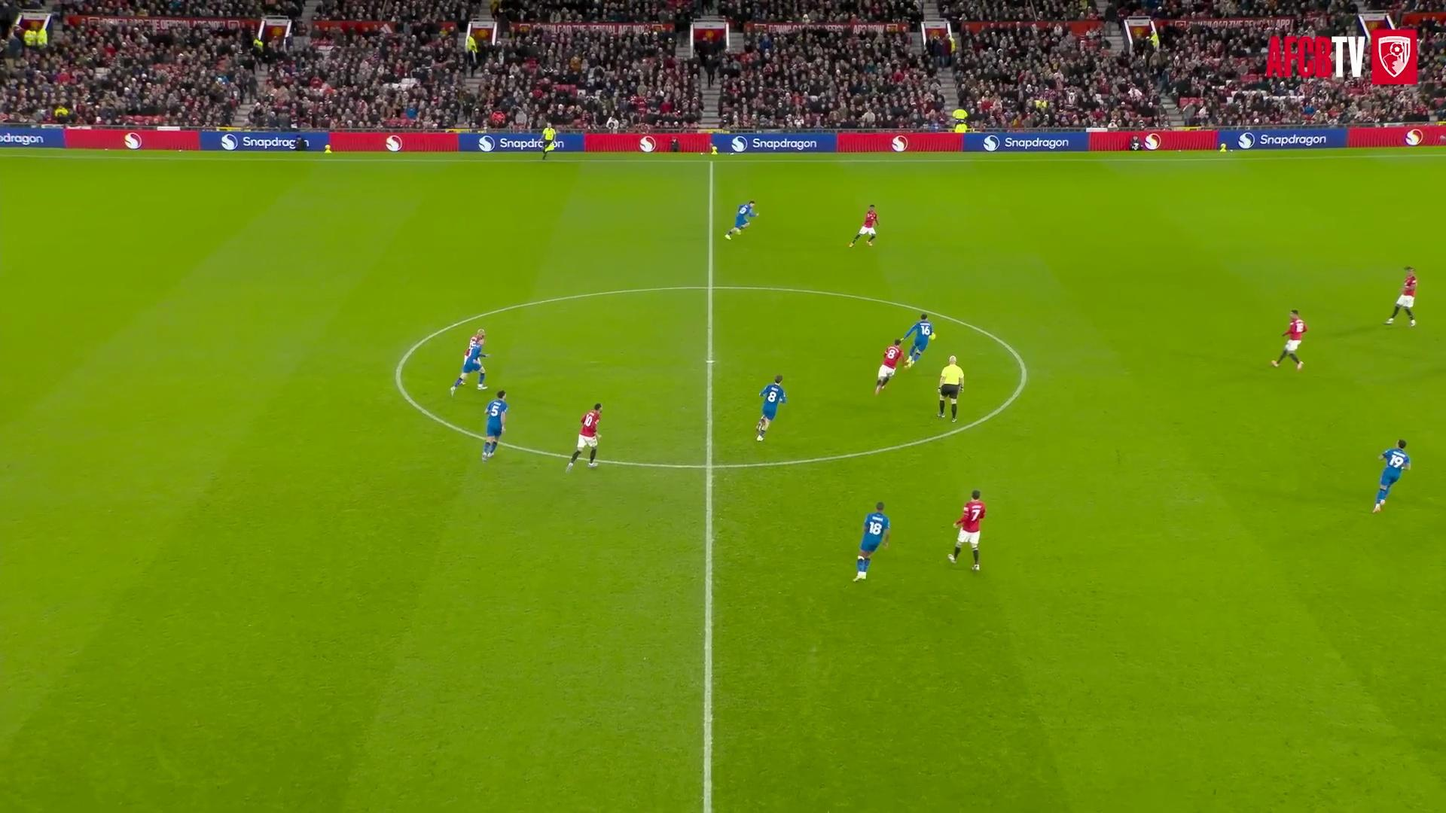player: (948, 489, 985, 571), (854, 502, 889, 580), (1373, 440, 1409, 512), (565, 403, 601, 470), (450, 329, 486, 394), (1271, 309, 1307, 370), (756, 375, 786, 440), (1384, 267, 1417, 326), (482, 391, 508, 461), (904, 313, 934, 367), (876, 340, 903, 394), (849, 204, 878, 248), (725, 200, 756, 239), (541, 123, 556, 159)
referee: (938, 355, 963, 420), (541, 123, 555, 159)
